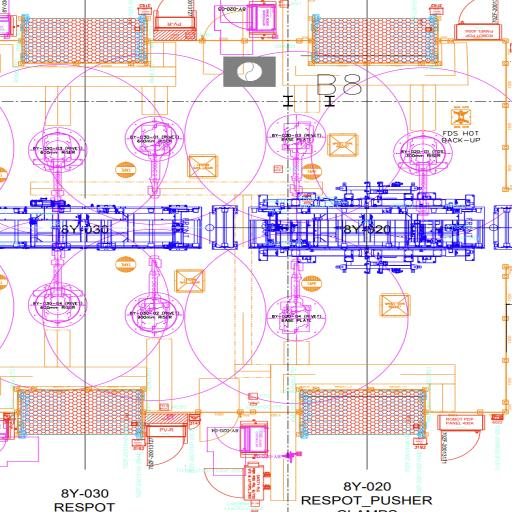robot: (120, 253, 188, 341), (26, 238, 89, 330), (265, 253, 329, 343), (25, 126, 90, 214), (123, 113, 185, 201), (393, 130, 455, 216), (266, 113, 326, 199)
